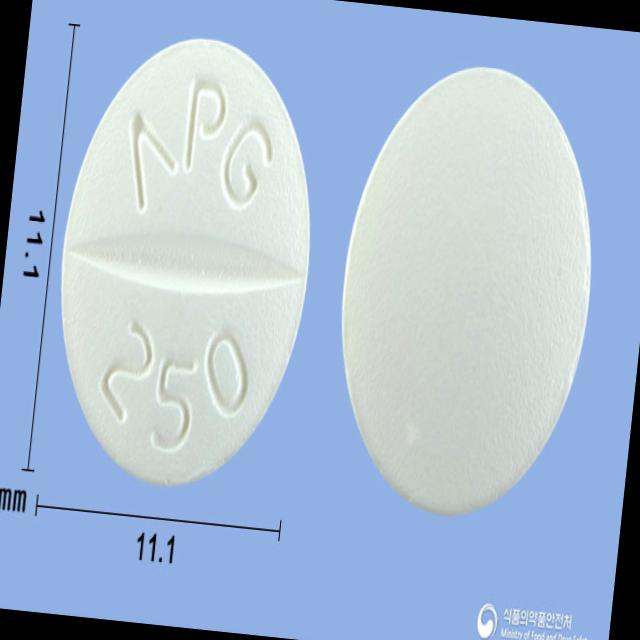Ciflo: (37, 20, 335, 504)
